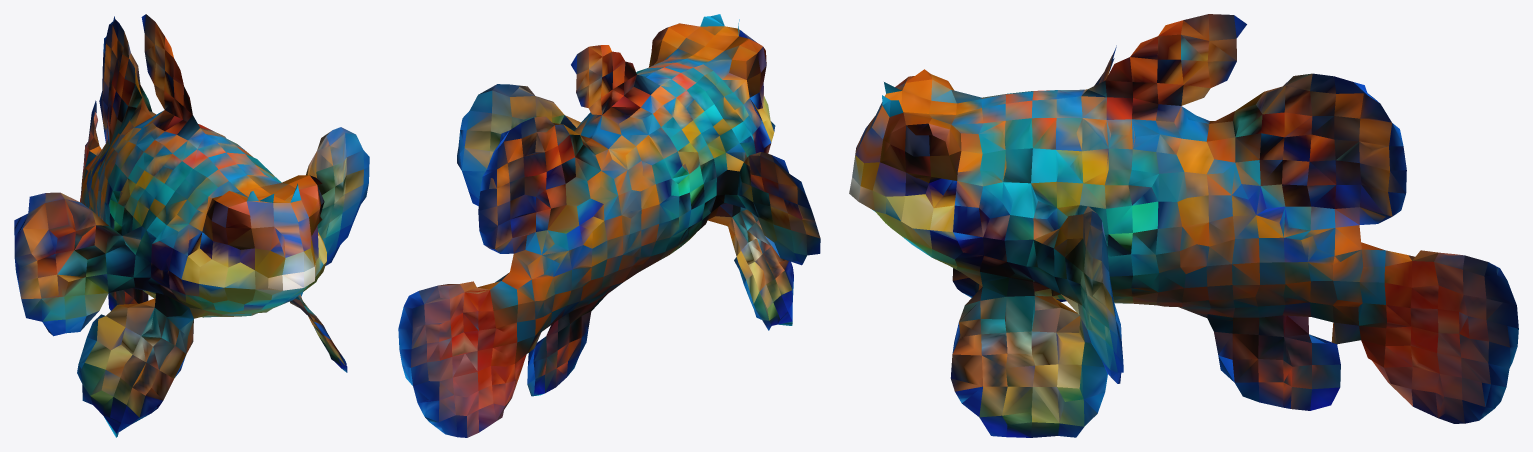
Rendered from mandarinfish.glb.
3 views of the same model, side by side, from view 1: azimuth 30°, elevation 25°; view 2: azimuth 150°, elevation 25°; view 3: azimuth 270°, elevation 25° (orthographic). The views are drawn at different scales.
Size of the model in its own units: 0.7266 by 0.6443 by 0.9852.
Materials: 1 (1 with a texture image).
